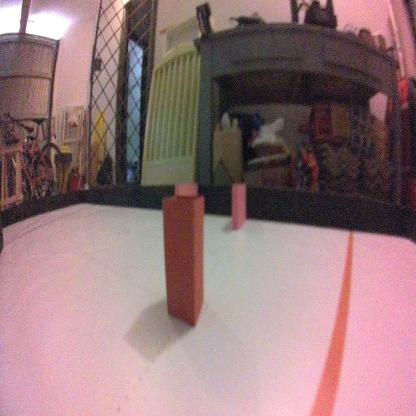magenta: (230, 180, 248, 230)
red: (161, 192, 206, 333)
